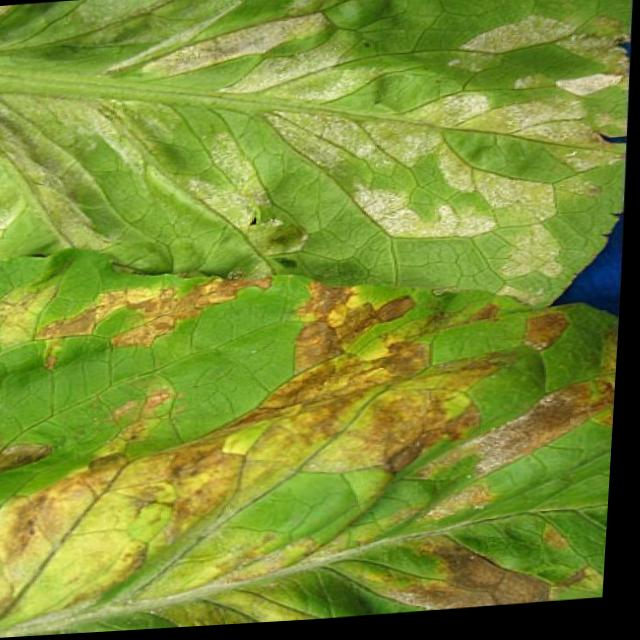Bad: (0, 278, 614, 637), (0, 0, 627, 281), (60, 281, 241, 357)
